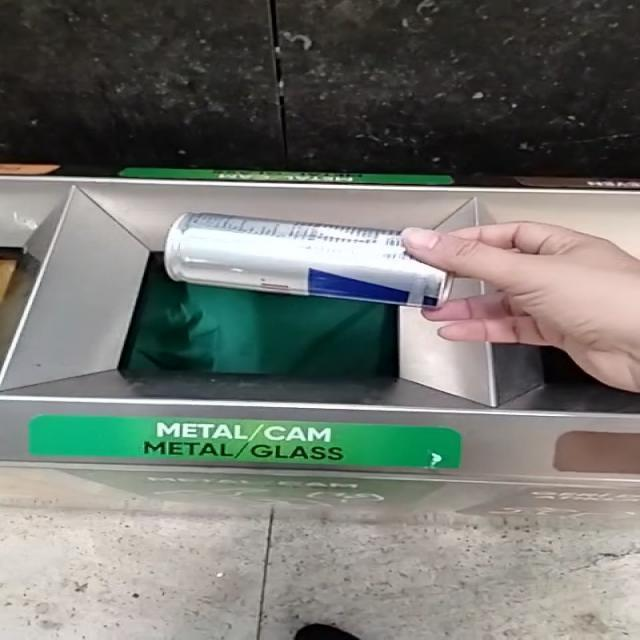Bin: (0, 178, 640, 480)
Metal: (164, 212, 451, 307)
